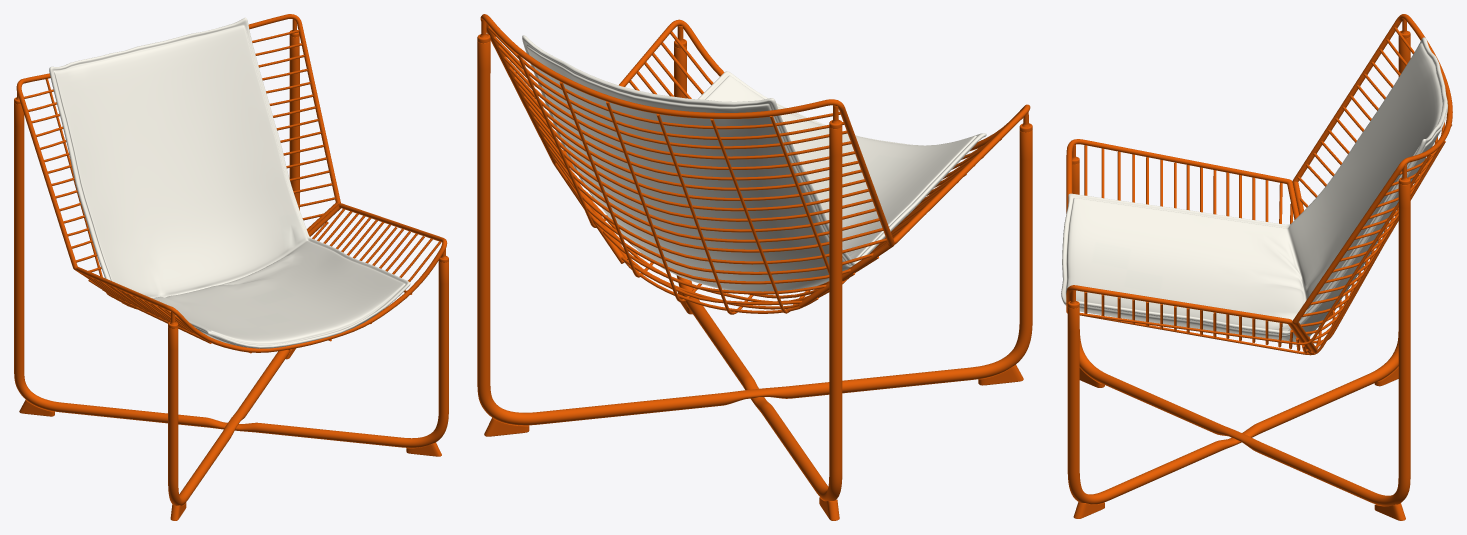
The model's file is 29 - SKÅLBODA Armchair - orangeRansta beige.glb.
3 views of the same model, side by side, from view 1: azimuth 30°, elevation 25°; view 2: azimuth 150°, elevation 25°; view 3: azimuth 270°, elevation 25° (orthographic). The views are drawn at different scales.
Parts seen in each view (by area): view 1: 69574958_armchair_001, 69574958_armchair; view 2: 69574958_armchair, 69574958_armchair_001; view 3: 69574958_armchair_001, 69574958_armchair.
Part boxes in pixels (bbox=[...]): 69574958_armchair_001: bbox=[49, 17, 410, 348]; 69574958_armchair: bbox=[14, 14, 448, 520]; 69574958_armchair: bbox=[477, 14, 1032, 520]; 69574958_armchair_001: bbox=[522, 35, 986, 294]; 69574958_armchair_001: bbox=[1061, 37, 1447, 341]; 69574958_armchair: bbox=[1066, 14, 1452, 520].
Size of the model in its own units: 0.64 by 0.71 by 0.6994.
Materials: 2 (1 with a texture image).
